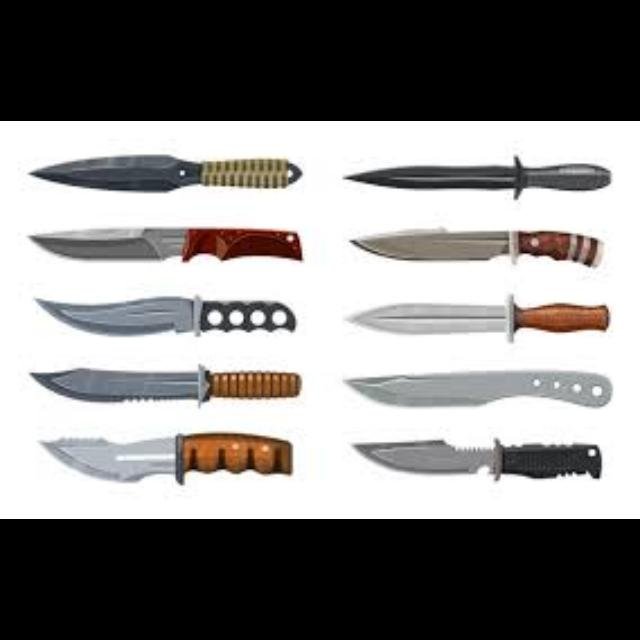knife: (37, 432, 293, 483), (346, 296, 608, 342), (340, 155, 610, 197), (34, 295, 296, 337), (28, 365, 302, 405), (349, 437, 601, 479), (28, 153, 302, 191), (347, 227, 603, 267), (343, 369, 611, 407), (28, 227, 302, 263)
